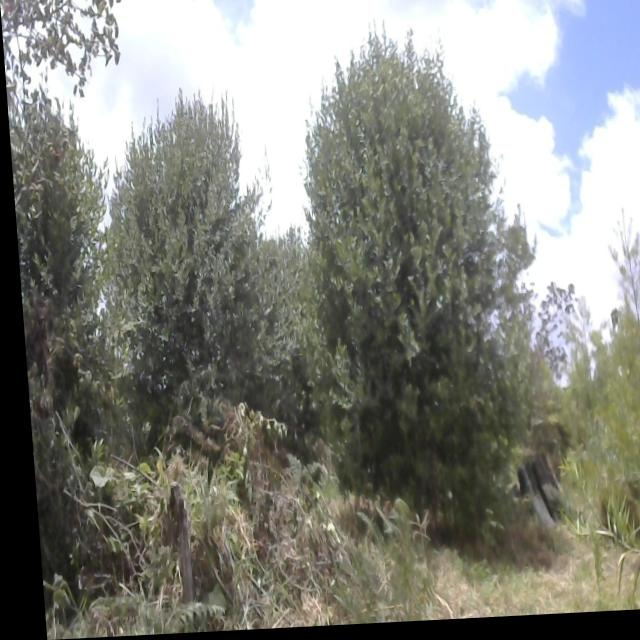Podocarpus falcatus: (541, 414, 640, 613), (581, 206, 640, 538)
Salix alba: (277, 28, 534, 530), (89, 65, 286, 429), (6, 99, 108, 456)
